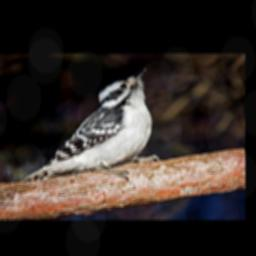Woodpecker: (21, 66, 163, 182)
